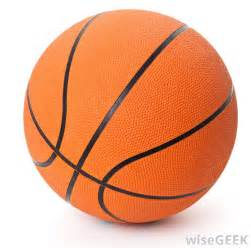basketball: (22, 8, 239, 225)
